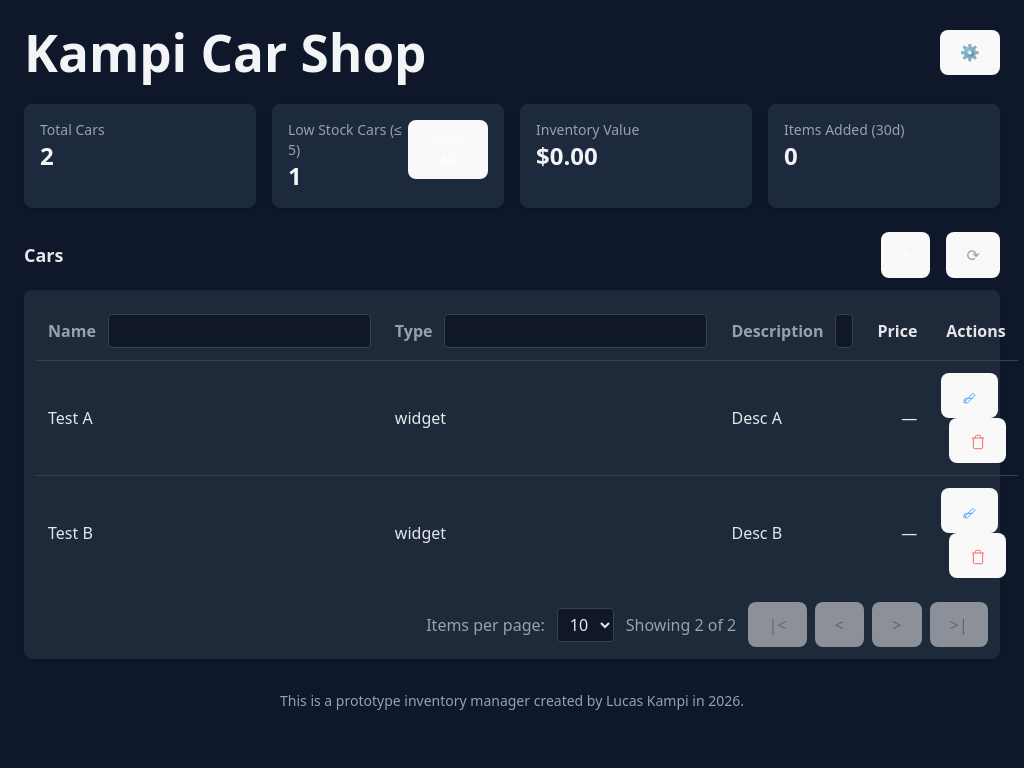
Test case: CRUD flows (mocked) › lists entities and deletes one item
The image size is (1024, 768).
Expected: the text "Test A" is shown, [36, 360, 383, 475]
Expected: the text "Test B" is shown, [36, 475, 383, 590]
# click delete button for the row containing 'Test A' to ensure correct target
Click the button titled "Delete" in the row of "Test A": (977, 441) [949, 418, 1005, 463]
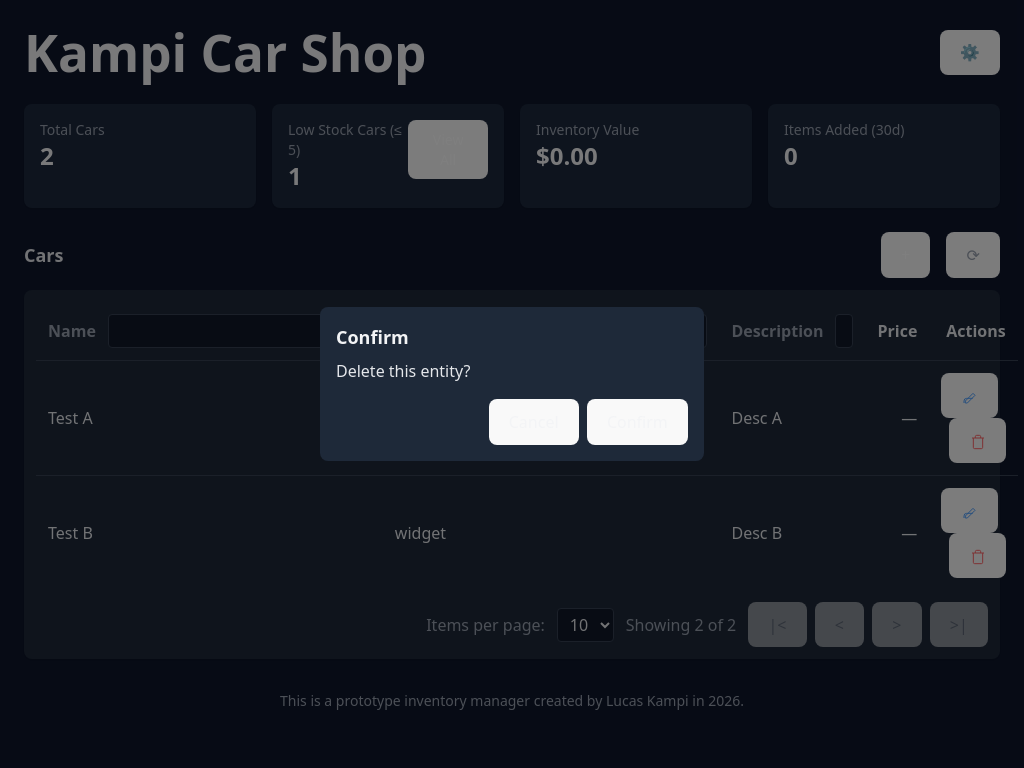
Expected: the dialog with test id "confirm-dialog" is shown
Expected: the button with test id "confirm-confirm" is shown
# click the confirm button by test id to avoid ambiguous queries in headless
Click the button with test id "confirm-confirm": (638, 422) [587, 399, 688, 444]
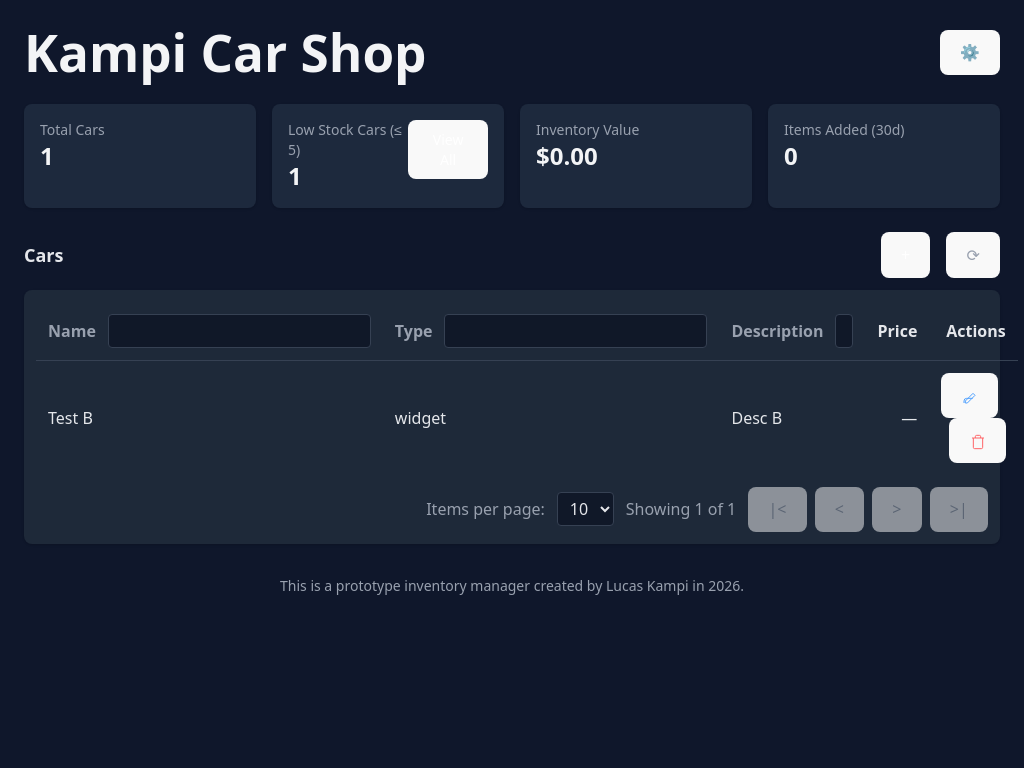
Expected: the text "Test A" is gone
